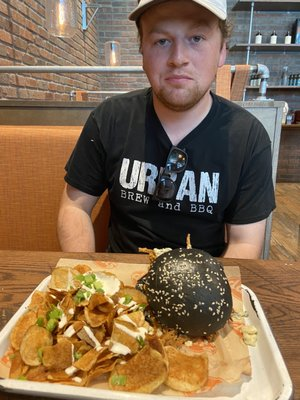curry: (0, 245, 299, 399)
sandwich: (0, 263, 152, 388)
